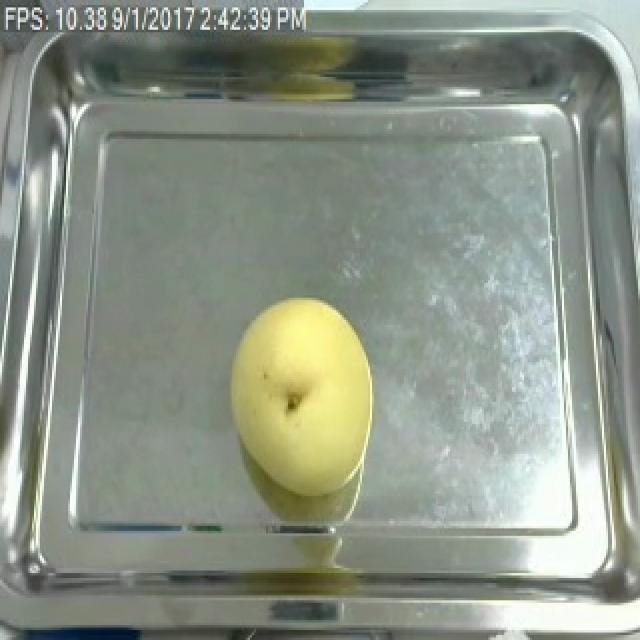Fruit: (218, 287, 384, 503)
